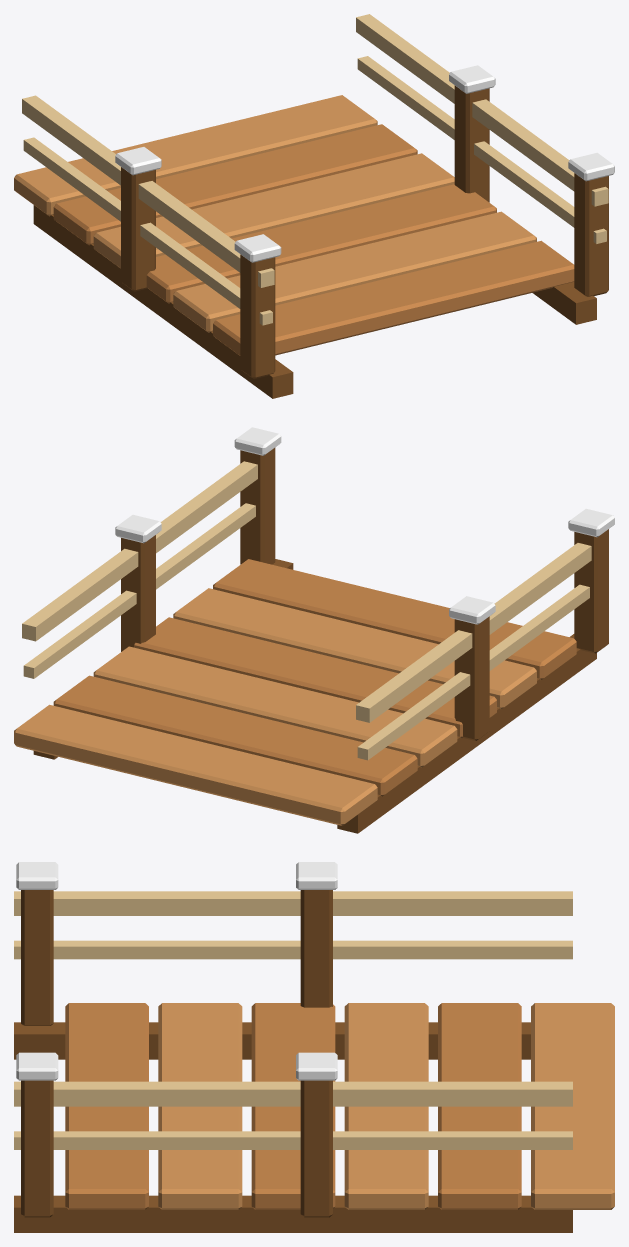
Rendered from bridge_segment.fbx.
3 views of the same model, one above another, from view 1: azimuth 30°, elevation 25°; view 2: azimuth 150°, elevation 25°; view 3: azimuth 270°, elevation 25° (orthographic). The views are drawn at different scales.
Parts seen in each view (by area): view 1: Cube, Cube.001, Cube.004, Cube.005, Cube.003, Cube.002, Cube.018, Cube.011, Cube.006, Cube.012, Cube.019, Cube.007 (+8 smaller); view 2: Cube.005, Cube.004, Cube.003, Cube, Cube.001, Cube.002, Cube.011, Cube.018, Cube.006, Cube.012, Cube.019, Cube.007 (+7 smaller); view 3: Cube.005, Cube.001, Cube.003, Cube, Cube.004, Cube.013, Cube.018, Cube.011, Cube.002, Cube.012, Cube.019, Cube.014 (+8 smaller).
Boxes of the visible parts, box(x1,y1,x2,y2) form: Cube: box(213, 240, 574, 355); Cube.001: box(173, 211, 536, 332); Cube.004: box(53, 124, 417, 245); Cube.005: box(14, 95, 377, 216); Cube.003: box(93, 153, 454, 268); Cube.002: box(146, 184, 496, 303); Cube.018: box(356, 14, 608, 206); Cube.011: box(22, 95, 274, 287); Cube.006: box(33, 205, 293, 398); Cube.012: box(23, 137, 272, 325); Cube.019: box(357, 56, 606, 243); Cube.007: box(240, 254, 275, 378); Cube.005: box(14, 704, 377, 825); Cube.004: box(53, 675, 417, 796); Cube.003: box(93, 646, 457, 767); Cube: box(213, 559, 576, 680); Cube.001: box(173, 588, 536, 709); Cube.002: box(134, 617, 496, 738); Cube.011: box(356, 543, 591, 722); Cube.018: box(22, 461, 257, 641); Cube.006: box(337, 634, 596, 833); Cube.012: box(357, 584, 589, 760); Cube.019: box(23, 503, 255, 678); Cube.007: box(574, 529, 608, 653); Cube.005: box(531, 1003, 614, 1209); Cube.001: box(158, 1003, 242, 1209); Cube.003: box(344, 1003, 428, 1209); Cube: box(65, 1003, 148, 1209); Cube.004: box(438, 1003, 521, 1209); Cube.013: box(14, 1195, 572, 1232); Cube.018: box(14, 1081, 572, 1106); Cube.011: box(14, 891, 572, 915); Cube.002: box(251, 1003, 335, 1209); Cube.012: box(14, 940, 572, 959); Cube.019: box(14, 1131, 572, 1149); Cube.014: box(21, 1080, 53, 1217).
Size of the model in its own units: 10.58 by 4.15 by 12.9.
